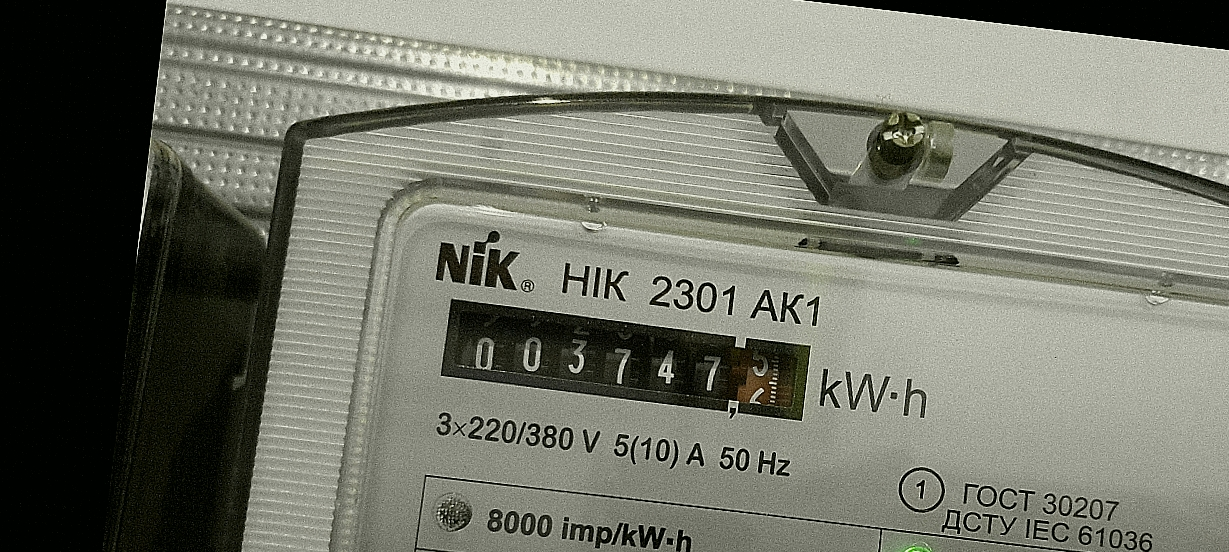0: (518, 333, 543, 373), (471, 334, 497, 371)
3: (565, 337, 587, 375)
4: (653, 345, 678, 388)
5: (748, 348, 771, 378)
6: (745, 383, 766, 406)
7: (696, 351, 723, 393), (608, 345, 632, 386)
screen: (428, 287, 827, 438)
